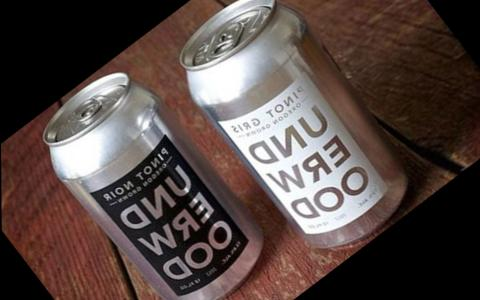metal: (180, 0, 408, 248), (43, 72, 262, 300)
